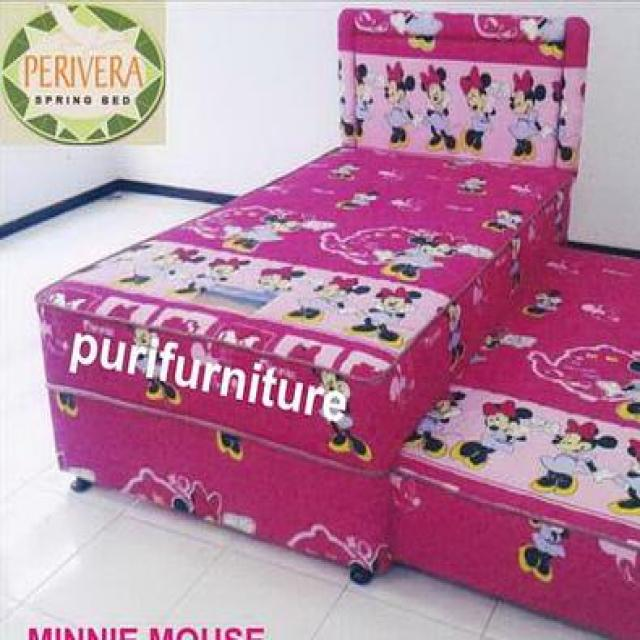bed: (32, 6, 592, 584)
